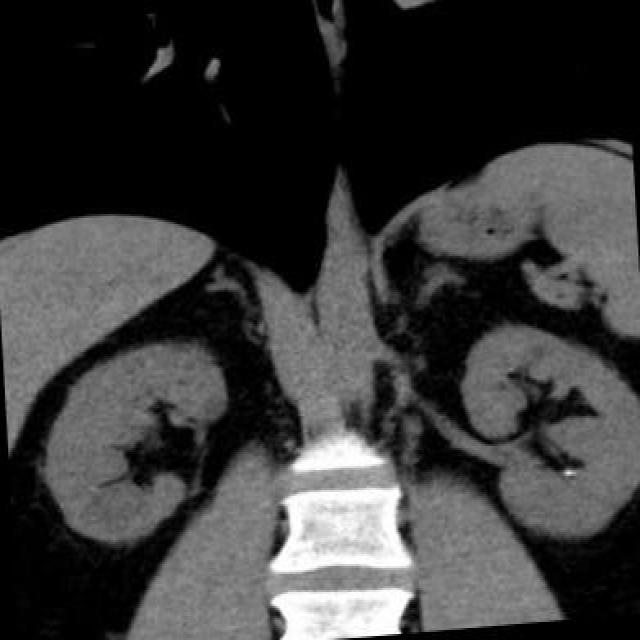Tas_Var: (562, 466, 574, 480)
